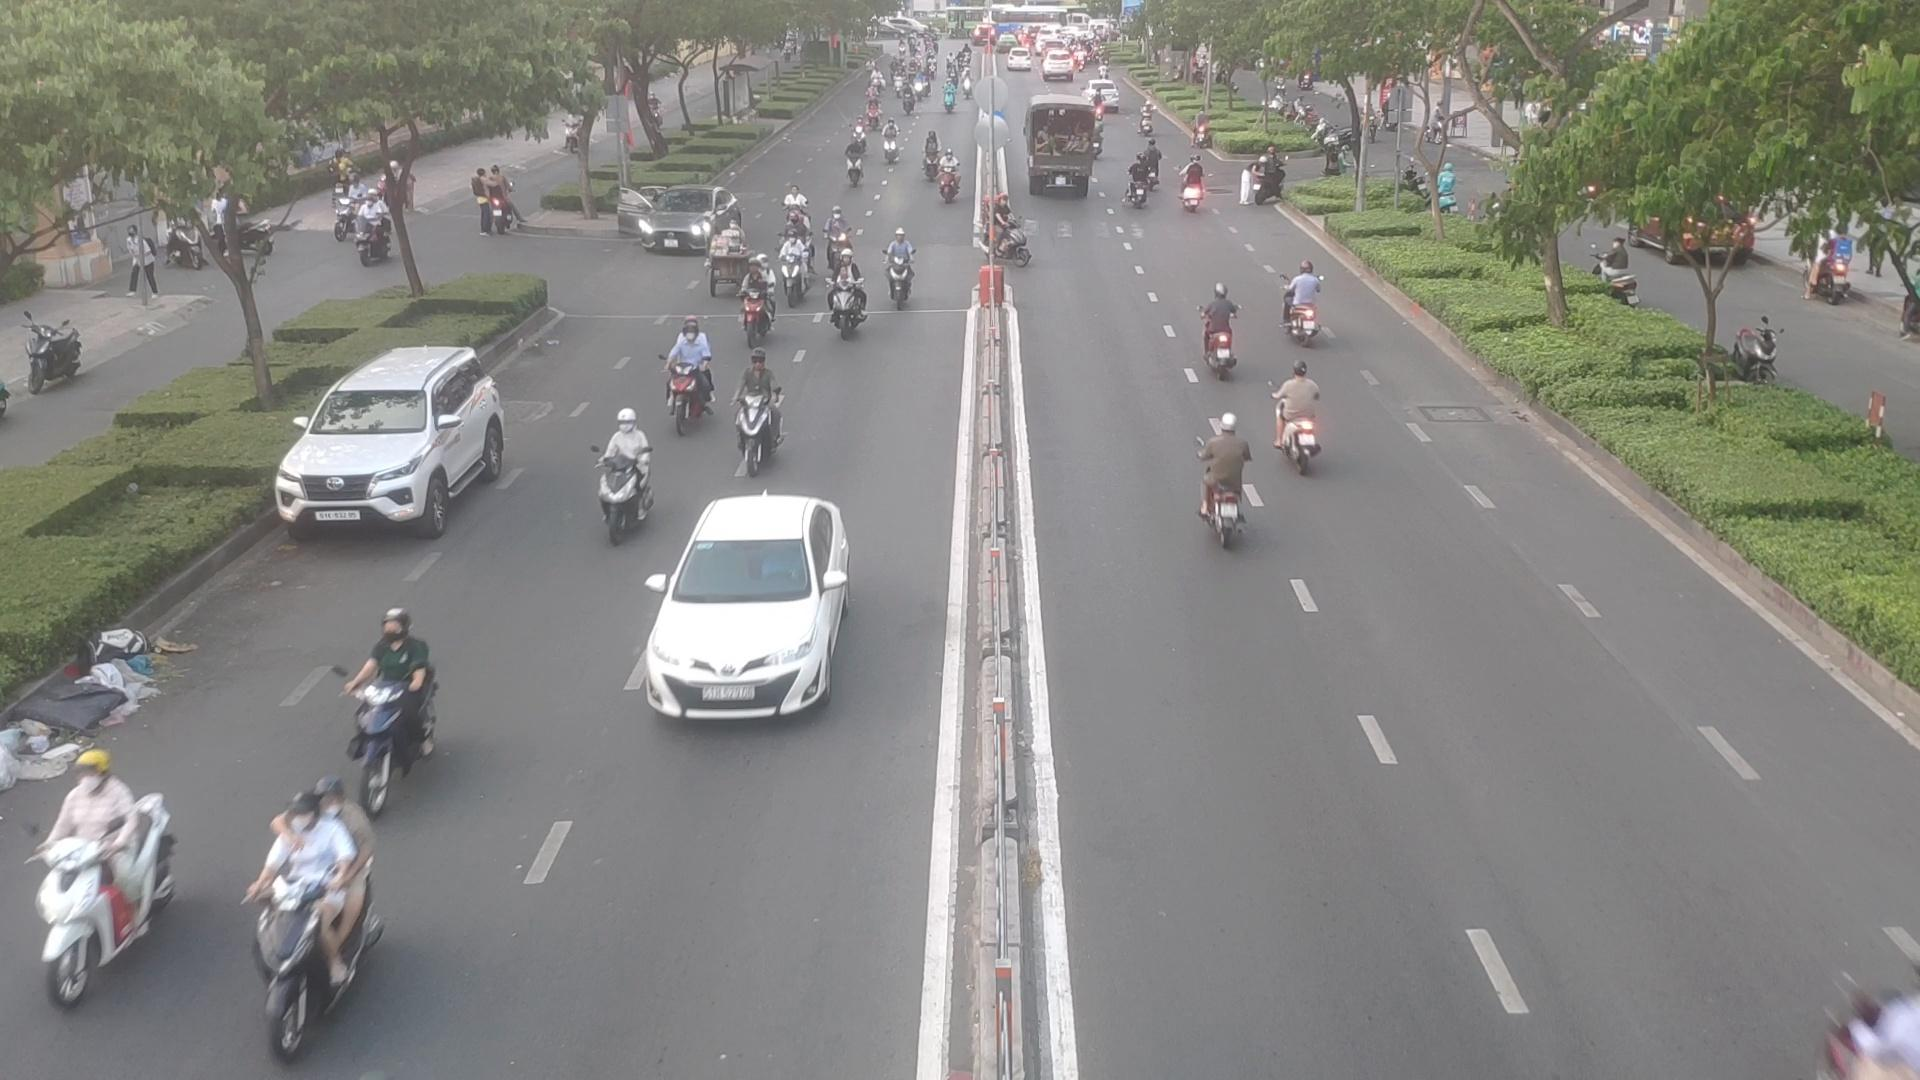car: (617, 496, 852, 719), (278, 344, 520, 529), (615, 191, 738, 258)
motorbike: (20, 760, 177, 1007), (243, 798, 385, 1043), (345, 616, 446, 771), (1200, 417, 1267, 537), (591, 413, 657, 531), (1269, 369, 1333, 467), (663, 320, 721, 425), (731, 356, 789, 460), (1200, 287, 1251, 378), (981, 200, 1042, 270), (1276, 262, 1327, 343), (829, 258, 874, 345), (878, 227, 920, 310), (742, 251, 771, 351), (820, 204, 860, 258), (1125, 156, 1158, 208), (1176, 160, 1209, 212), (936, 156, 967, 204)
